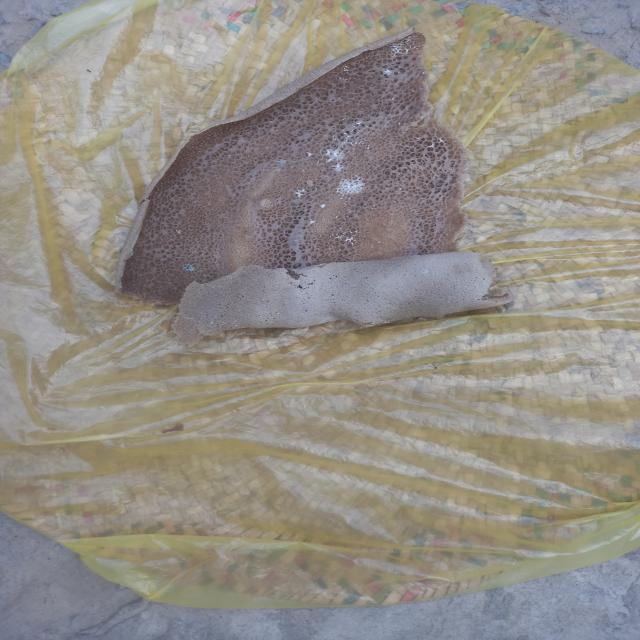injera_mold: (334, 175, 369, 199), (321, 145, 350, 162), (332, 234, 359, 244), (390, 43, 410, 56), (295, 188, 308, 200), (352, 118, 366, 128), (183, 264, 197, 273), (380, 66, 392, 76), (308, 218, 318, 230), (333, 163, 346, 172), (276, 158, 290, 166), (303, 151, 316, 159), (340, 64, 350, 74), (319, 202, 329, 210), (437, 137, 447, 145), (336, 77, 352, 82), (352, 141, 367, 146), (405, 36, 417, 42), (430, 139, 436, 150), (365, 50, 375, 56), (418, 269, 429, 274), (411, 45, 421, 50), (342, 130, 350, 136), (413, 136, 421, 142), (200, 329, 207, 334), (219, 322, 224, 329), (389, 96, 396, 101), (341, 232, 358, 234), (201, 312, 209, 316), (337, 248, 345, 252), (408, 248, 416, 252), (341, 140, 349, 144), (211, 284, 216, 290), (322, 319, 332, 322), (336, 224, 342, 229), (332, 134, 338, 139), (175, 229, 181, 234), (372, 204, 378, 209), (364, 147, 371, 151), (316, 159, 321, 164), (192, 324, 198, 328), (376, 240, 382, 244), (389, 213, 395, 217), (343, 215, 347, 221), (398, 186, 402, 192), (397, 65, 403, 69), (337, 123, 344, 126), (410, 89, 417, 92), (397, 121, 401, 126), (276, 311, 280, 316), (233, 320, 238, 324), (294, 239, 299, 243), (359, 58, 369, 60), (208, 322, 214, 325), (273, 290, 279, 293), (198, 320, 202, 324), (396, 70, 400, 74), (213, 307, 217, 311), (347, 211, 352, 214), (334, 215, 339, 218), (342, 118, 349, 120), (343, 202, 350, 204), (260, 316, 263, 320), (197, 314, 200, 318), (395, 58, 398, 62), (353, 77, 357, 80), (247, 313, 250, 317), (235, 325, 238, 328), (182, 223, 185, 226), (261, 299, 265, 301), (220, 310, 222, 314), (422, 71, 424, 74), (187, 228, 189, 230)
